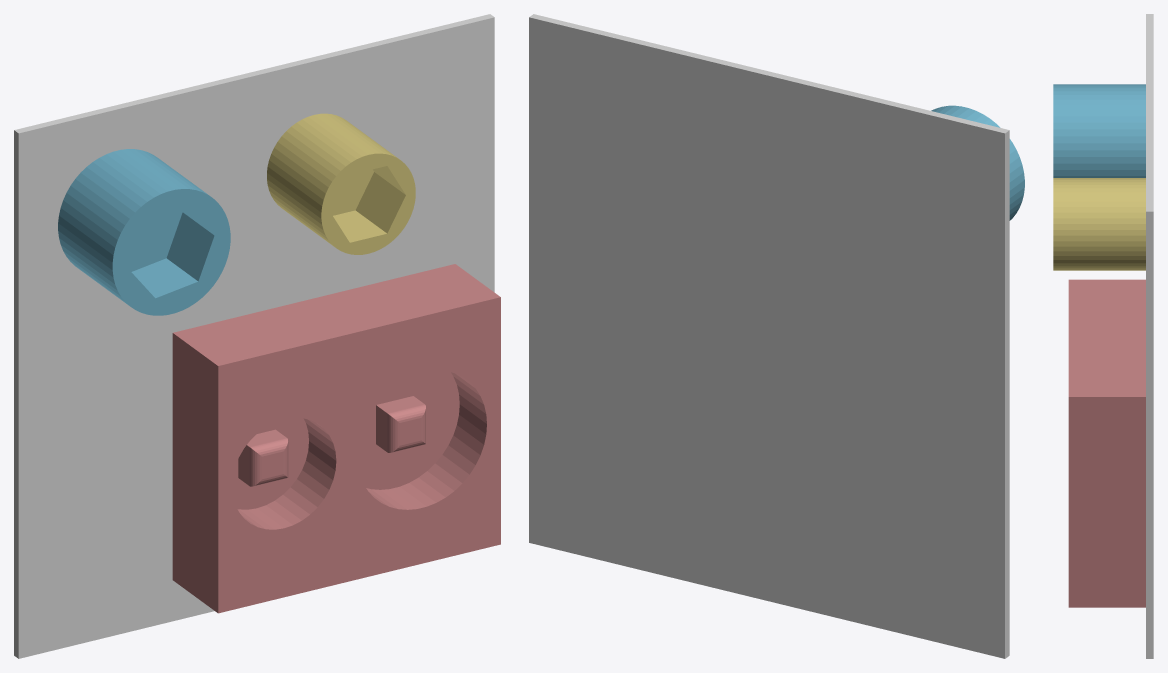
Rendered from pickup_layout.glb.
3 renders of one model, left to right at view 1: azimuth 30°, elevation 25°; view 2: azimuth 150°, elevation 25°; view 3: azimuth 270°, elevation 25°, orthographic. The views are drawn at different scales.
Visible parts, largest first — view 1: world, 0.obj, 2.obj, 1.obj; view 2: world, 2.obj; view 3: 0.obj, 2.obj, 1.obj, world.
Part boxes in pixels (left/top/right/bottom): world: left=14, top=14, right=494, bottom=658; 0.obj: left=172, top=264, right=500, bottom=613; 2.obj: left=58, top=149, right=230, bottom=315; 1.obj: left=267, top=113, right=415, bottom=254; world: left=529, top=14, right=1009, bottom=658; 2.obj: left=931, top=105, right=1024, bottom=220; 0.obj: left=1068, top=279, right=1145, bottom=607; 2.obj: left=1053, top=84, right=1145, bottom=177; 1.obj: left=1053, top=178, right=1145, bottom=270; world: left=1146, top=14, right=1153, bottom=658.
Bounding box in the file's own units: 12.08 × 12.75 × 2.6.
